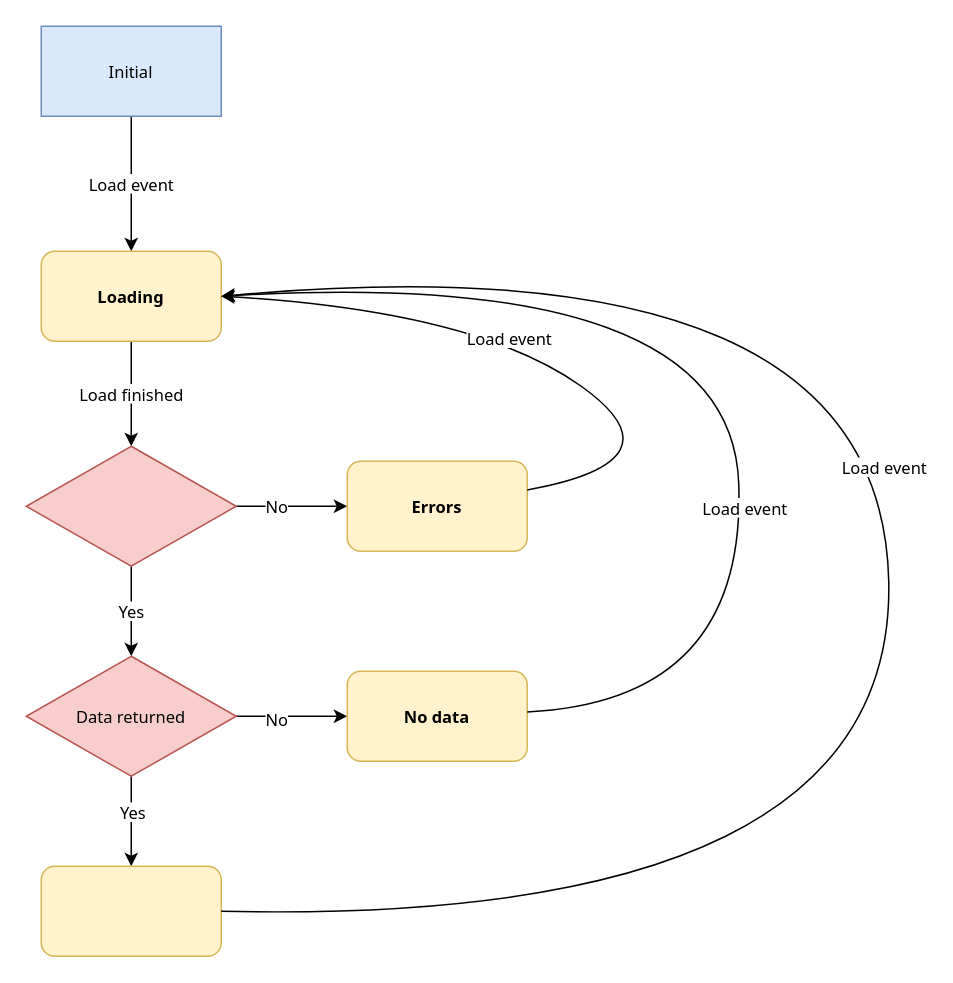
This 953x983 diagram has some shape labels left out. The centre of each missing label's shape, as x and y in pixels:
"Data loaded" belongs at (130,910).
"Successful call?" belongs at (130,505).
